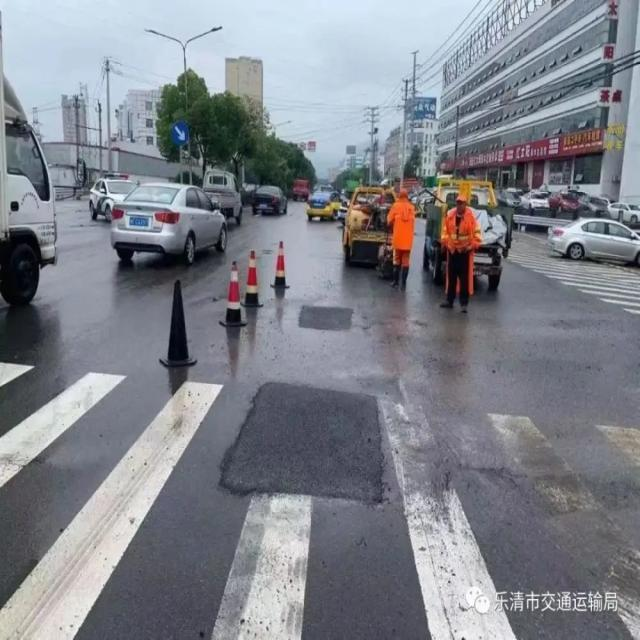pothole: (221, 378, 399, 509), (292, 300, 359, 337)
